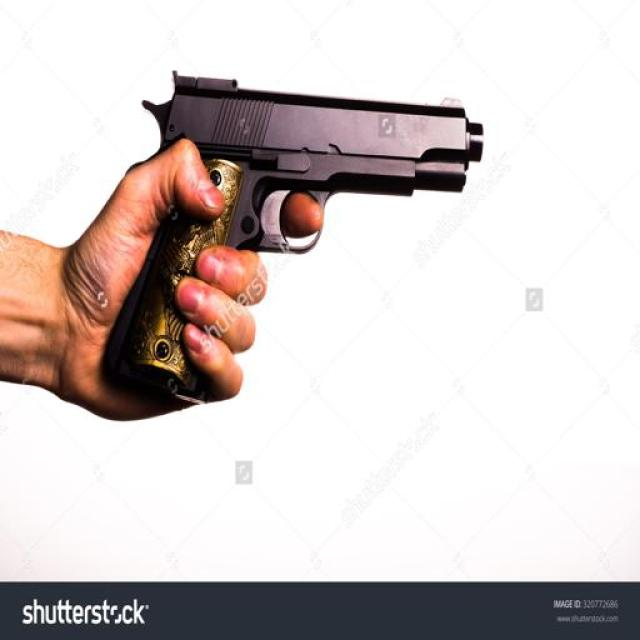pistol: (106, 66, 484, 401)
